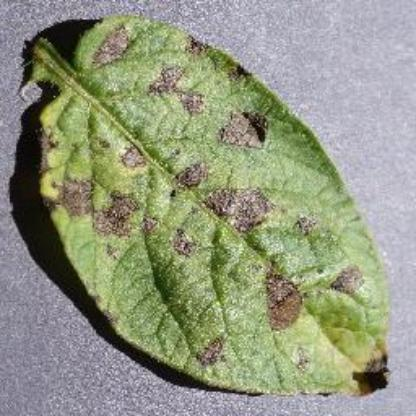Early-Blight: (18, 11, 392, 396)
